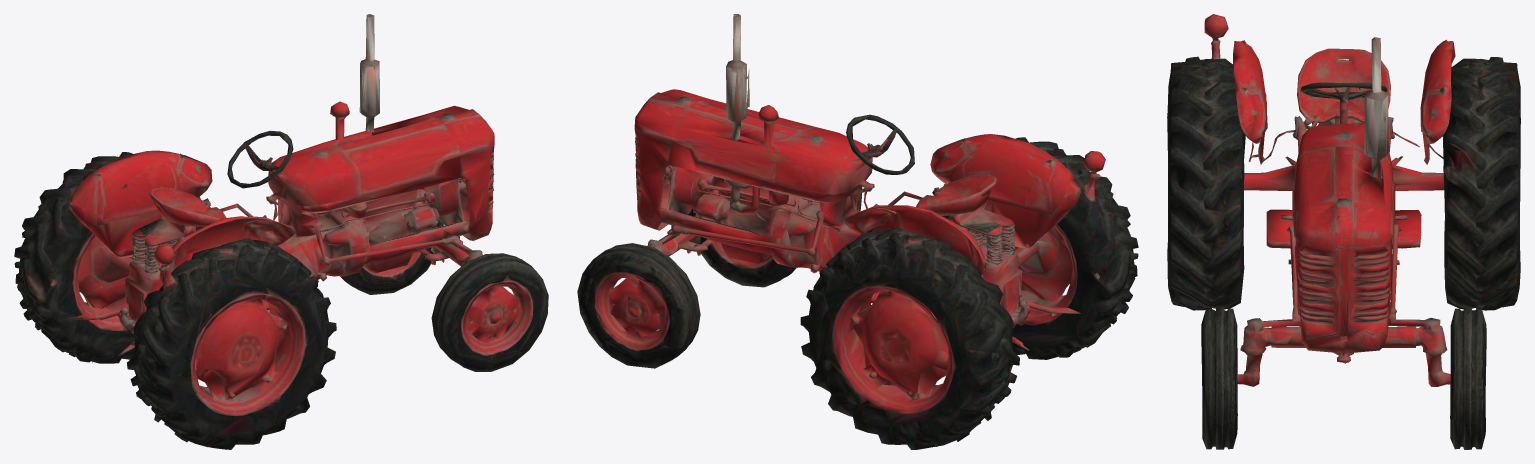
The model's file is tractor.glb.
3 renders of one model, left to right at view 1: azimuth 30°, elevation 25°; view 2: azimuth 150°, elevation 25°; view 3: azimuth 270°, elevation 25°, orthographic. The views are drawn at different scales.
Parts seen in each view (by area): view 1: Mesh_0; view 2: Mesh_0; view 3: Mesh_0.
Part boxes in pixels (<box>): Mesh_0: <box>14,14,548,449</box>; Mesh_0: <box>577,14,1138,449</box>; Mesh_0: <box>1167,14,1520,449</box>.
Size of the model in its own units: 3.51 by 2.6 by 2.2.
Materials: 1 (1 with a texture image).
